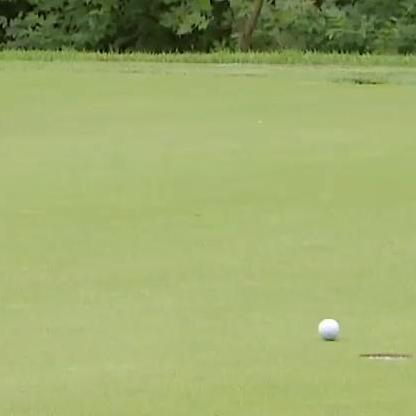golfball: (314, 314, 339, 342)
